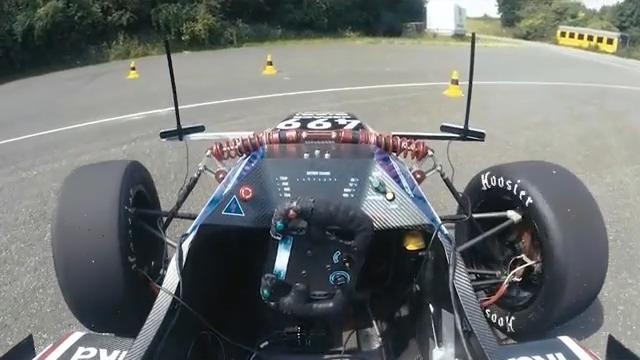yellow_cone: (446, 70, 466, 97), (263, 54, 279, 74), (126, 61, 141, 78)
